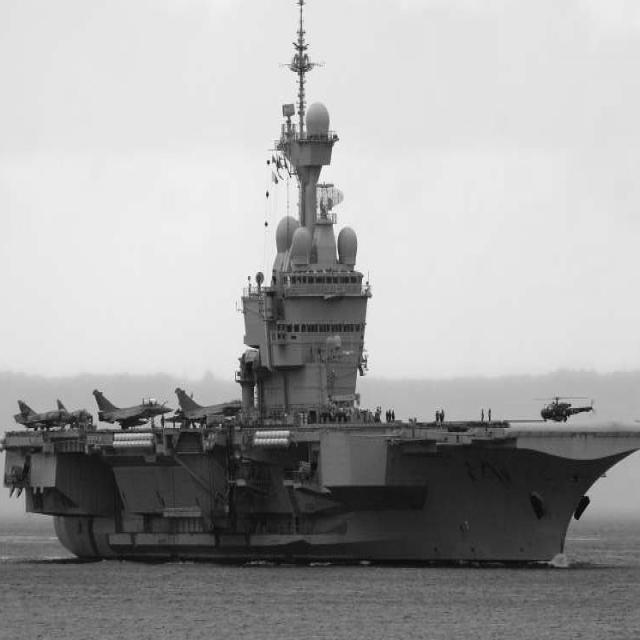Portanaves: (1, 1, 640, 572)
